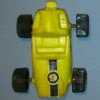amarillo: (17, 2, 85, 97)
